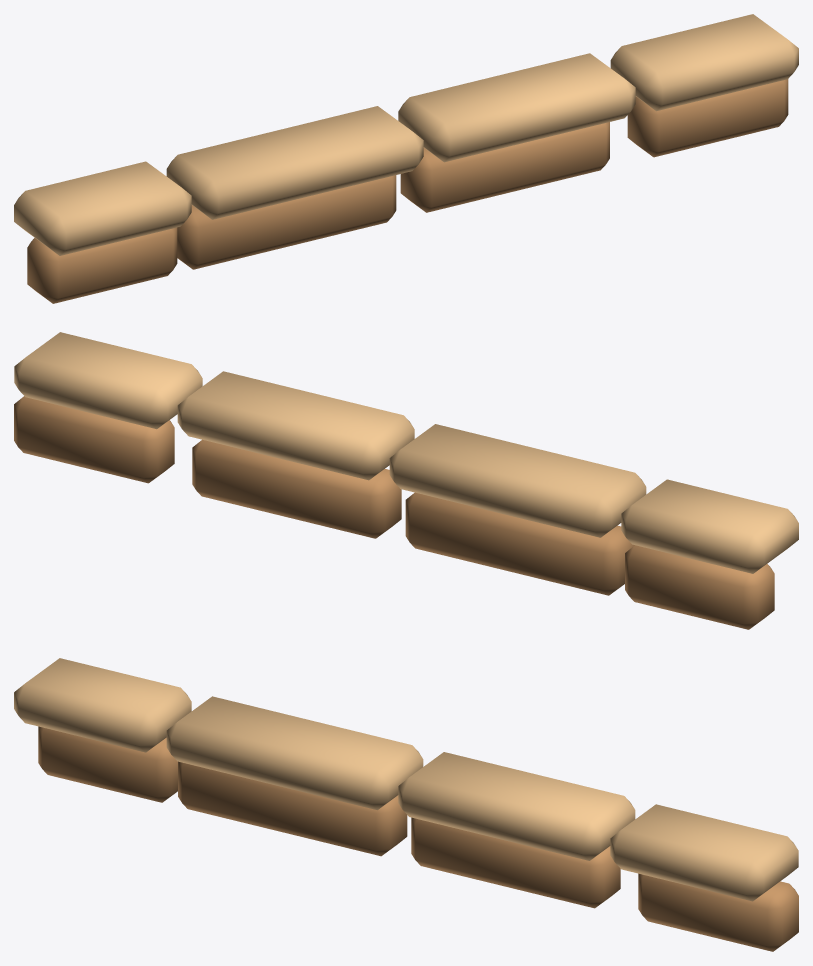
File: desert_rim.glb
3 views of the same model, one above another, from view 1: azimuth 30°, elevation 25°; view 2: azimuth 150°, elevation 25°; view 3: azimuth 330°, elevation 25° (orthographic).
Visible parts, largest first — view 1: D_Rim__D_s2, D_Rim__D_s1; view 2: D_Rim__D_s2, D_Rim__D_s1; view 3: D_Rim__D_s2, D_Rim__D_s1.
Part boxes in pixels (x1,y1,x2,y2): D_Rim__D_s2: [14, 14, 798, 255]; D_Rim__D_s1: [27, 79, 788, 303]; D_Rim__D_s2: [14, 332, 798, 573]; D_Rim__D_s1: [14, 396, 774, 629]; D_Rim__D_s2: [14, 658, 798, 901]; D_Rim__D_s1: [38, 726, 798, 951].
Bounding box in the file's own units: 4.77 × 0.6055 × 0.52.
